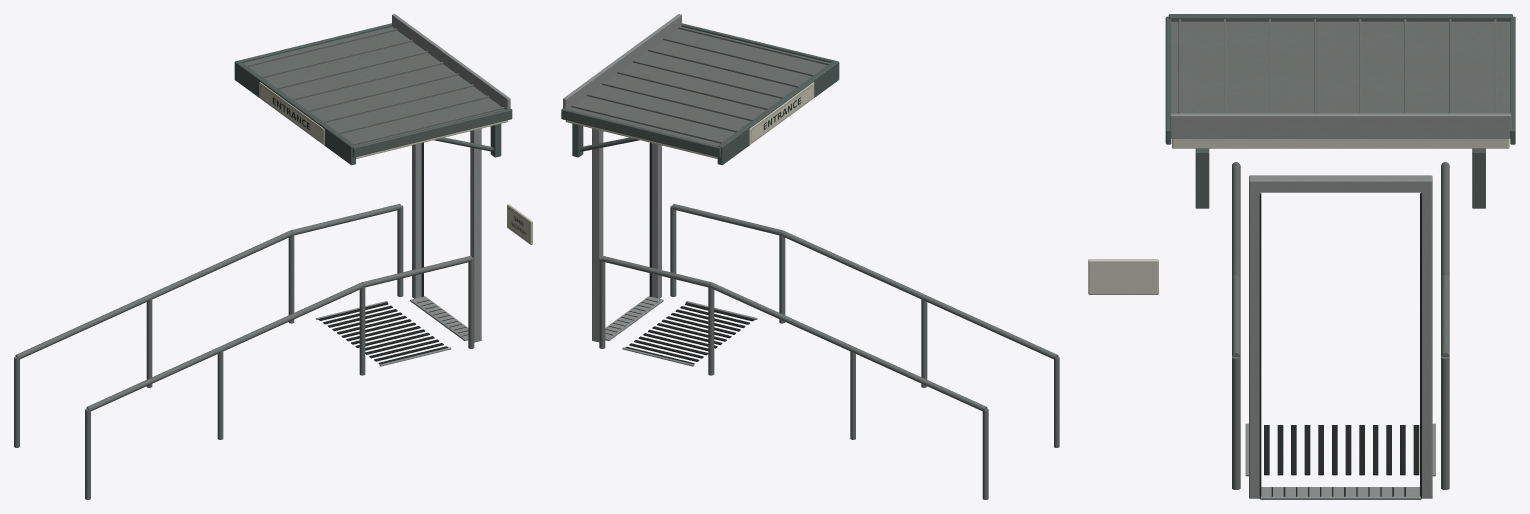
Rendered from SM_Arrival_Entrance.fbx.
3 views of the same model, side by side, from view 1: azimuth 30°, elevation 25°; view 2: azimuth 150°, elevation 25°; view 3: azimuth 270°, elevation 25° (orthographic). The views are drawn at different scales.
Visible parts, largest first — view 1: SM_Arrival_Entrance; view 2: SM_Arrival_Entrance; view 3: SM_Arrival_Entrance.
Part boxes in pixels (box(x1,y1,x2,y2)): SM_Arrival_Entrance: box(14, 14, 532, 499); SM_Arrival_Entrance: box(561, 14, 1059, 499); SM_Arrival_Entrance: box(1088, 14, 1515, 499).
Bounding box in the file's own units: 4.26 × 2.66 × 3.22.
